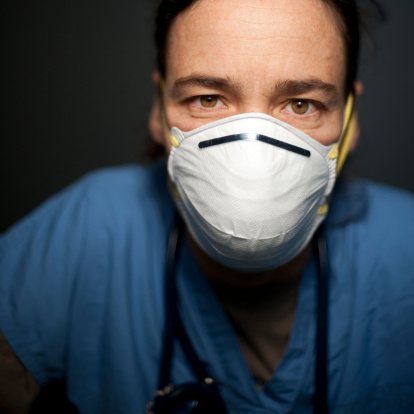face_mask: (165, 0, 345, 249)
